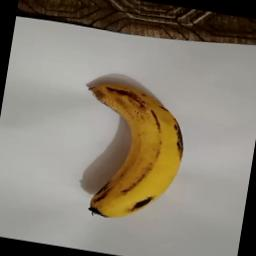Banana Unripe: (67, 76, 196, 230)
